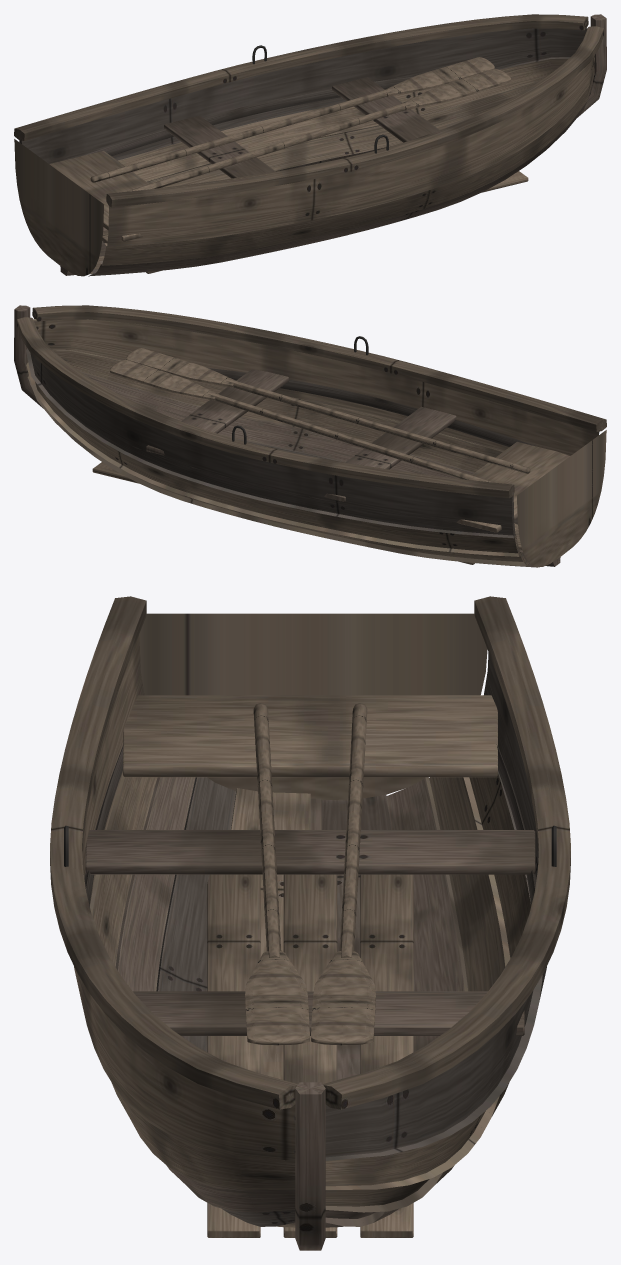
Rendered from rowboat.glb.
The picture shows the model from 3 angles, top to bottom: view 1: azimuth 30°, elevation 25°; view 2: azimuth 150°, elevation 25°; view 3: azimuth 270°, elevation 25°; orthographic projection. The views are drawn at different scales.
Visible parts, largest first — view 1: rowboat; view 2: rowboat; view 3: rowboat.
Part boxes in pixels (x1,y1,x2,y2): rowboat: (14,14,606,276); rowboat: (14,305,606,567); rowboat: (50,596,570,1250).
Size of the model in its own units: 3.29 by 0.7999 by 1.36.
Materials: 2 (1 with a texture image).
